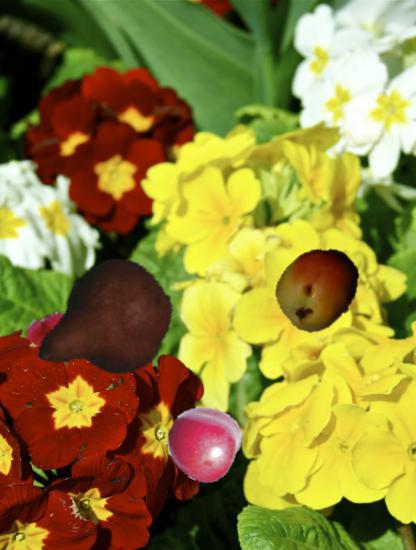Cherry: (166, 406, 241, 481)
Papaya: (274, 244, 364, 334)
Pear: (30, 251, 176, 397)
